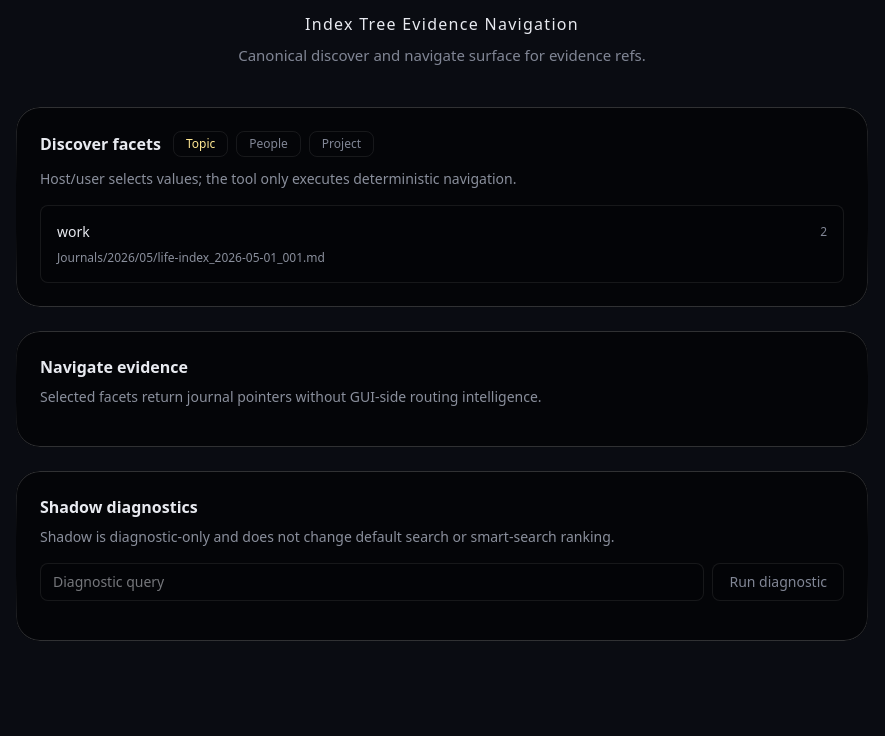
Test: IndexTreeDiagnostics canonical surface › uses a discovered facet value to drive navigate and render real journal pointers
The image size is (885, 736).
Click the button "work 2 Journals/2026/05/life-index_2026-05-01_001.md" at coordinates (73, 231), box 40,204 -> 844,282
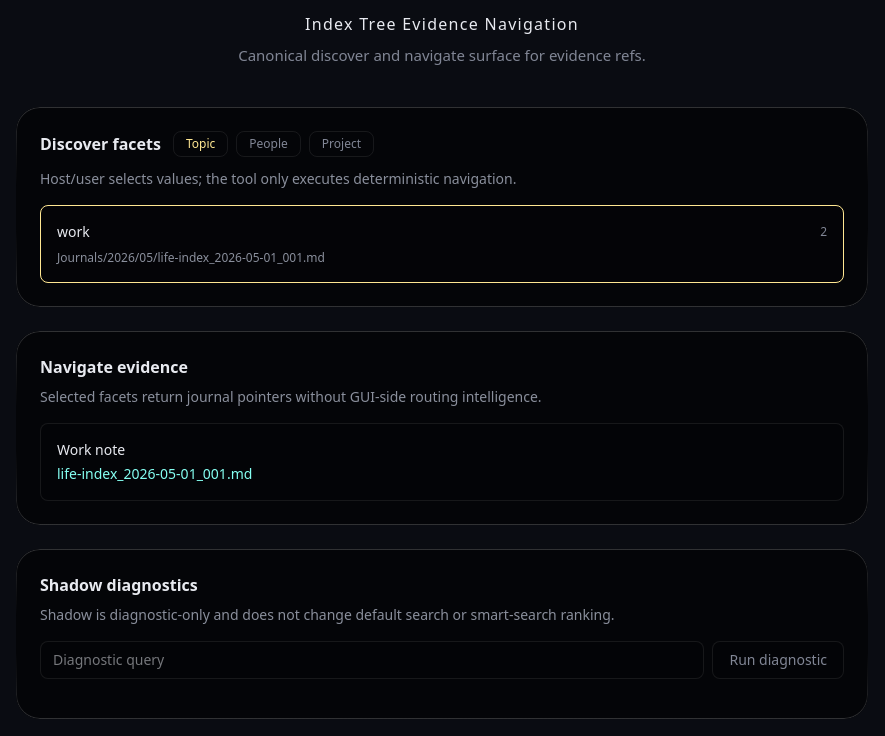
Now the element with test id "index-tree-navigate-result" shows "Work note", box 57,440 -> 125,458
